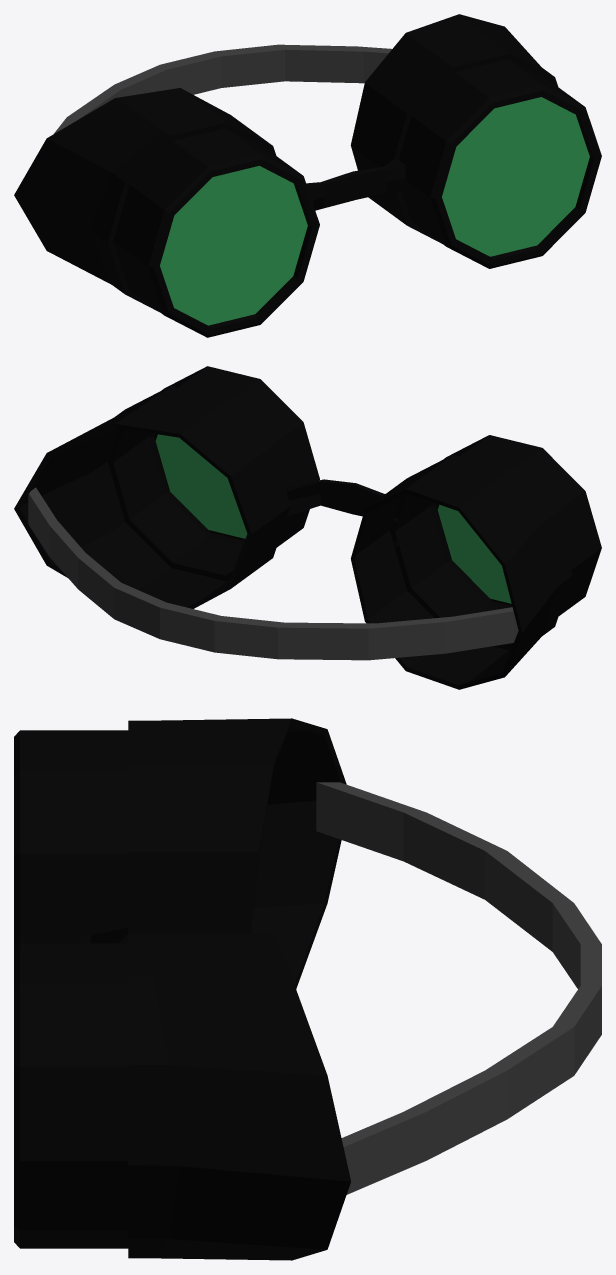
File: Goggles.fbx
The picture shows the model from 3 angles, top to bottom: view 1: azimuth 30°, elevation 25°; view 2: azimuth 150°, elevation 25°; view 3: azimuth 270°, elevation 25°; orthographic projection. The views are drawn at different scales.
Visible parts, largest first — view 1: Glasses, Strap, Glasses_middle; view 2: Glasses, Strap, Glasses_middle; view 3: Glasses, Strap, Glasses_middle.
Part boxes in pixels (left/top/right/bottom): Glasses: left=14, top=14, right=601, bottom=337; Strap: left=54, top=44, right=391, bottom=133; Glasses_middle: left=306, top=159, right=405, bottom=210; Glasses: left=14, top=366, right=601, bottom=689; Strap: left=28, top=487, right=518, bottom=660; Glasses_middle: left=286, top=479, right=398, bottom=546; Glasses: left=14, top=718, right=350, bottom=1260; Strap: left=316, top=782, right=601, bottom=1194; Glasses_middle: left=80, top=926, right=128, bottom=943.
Bounding box in the file's own units: 0.5111 × 0.1749 × 0.3306.
